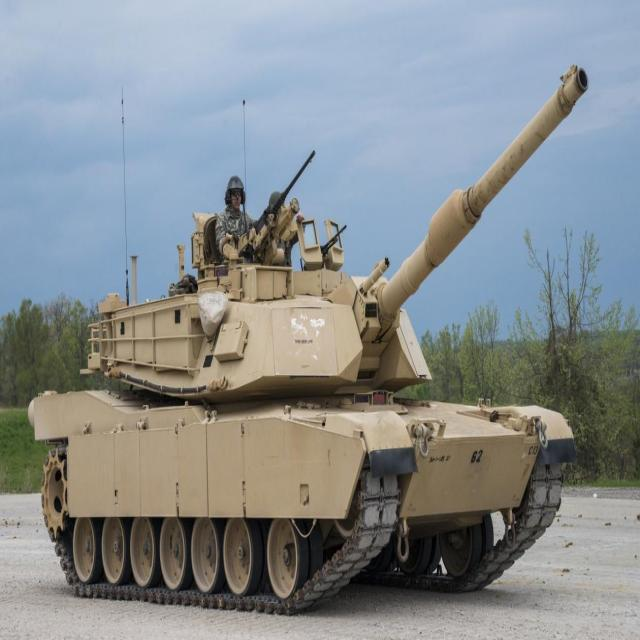Tanks: (35, 61, 594, 602)
